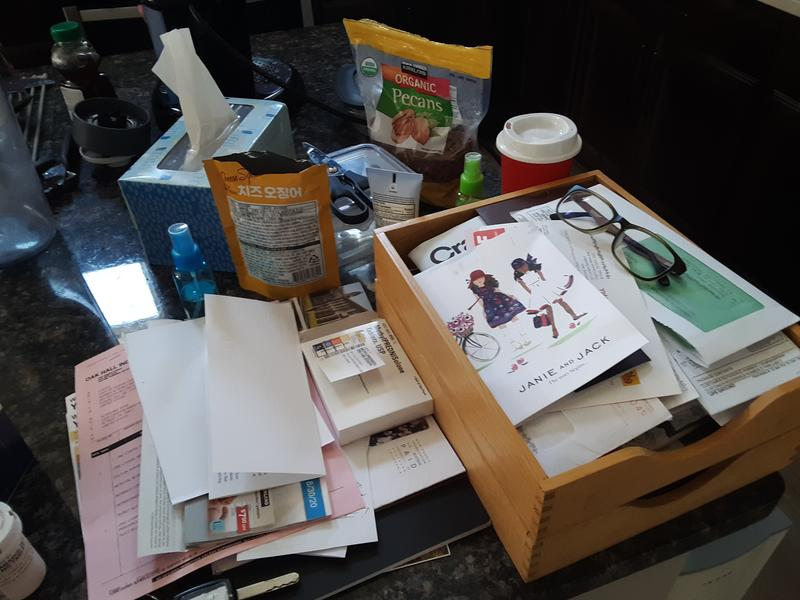glasses: (549, 185, 688, 292)
